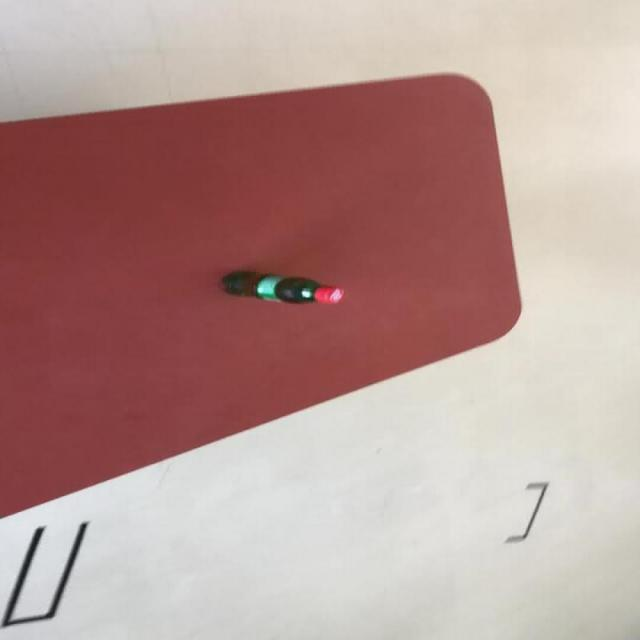Guarana: (218, 269, 345, 305)
